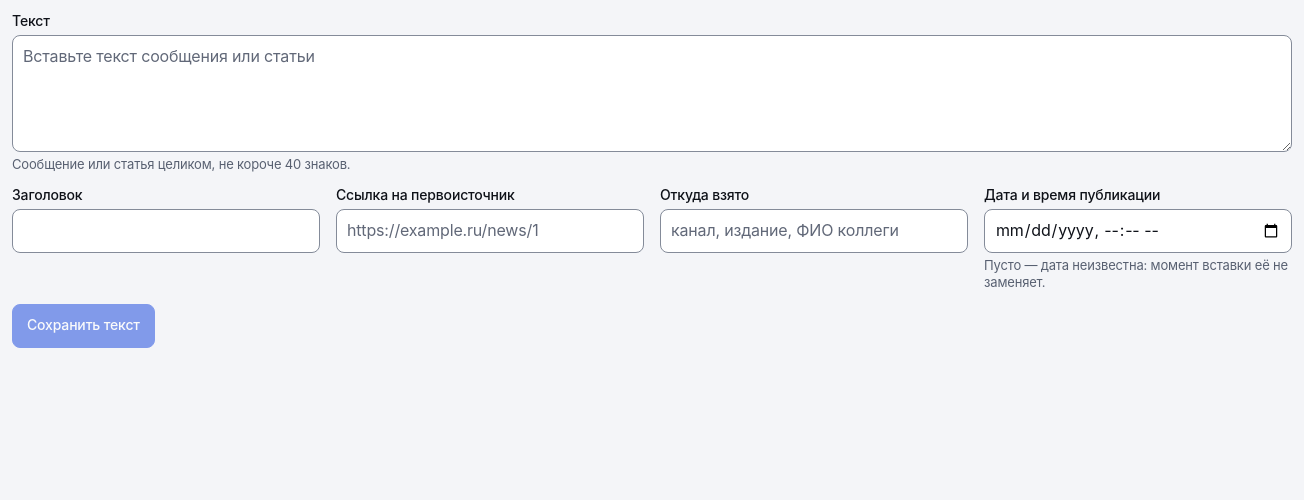
Test case: Ручная вставка текста › после сохранения — ссылка на публикацию; разбор не ставится руками, портал разберёт сам
In the text box with placeholder "Вставьте текст сообщения или статьи": (652, 94) [12,35,1292,152], type "Заказчик объявил конкурс на строительство корпуса 3 жилого комплекса «Пример»."
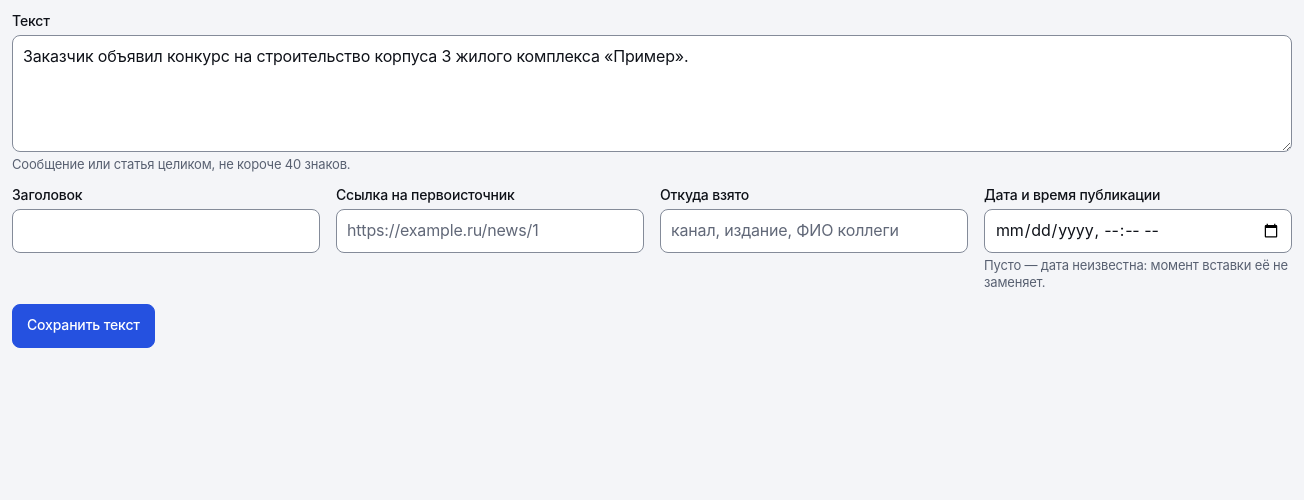
Click the button "Сохранить текст": (83, 326) [12,304,155,348]
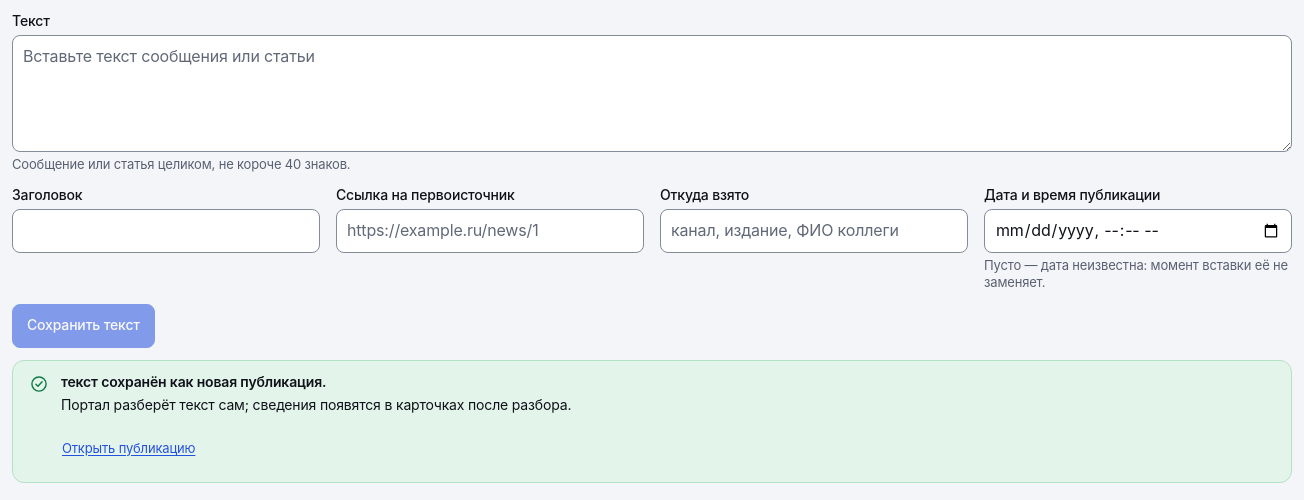
Result: the text "Портал разберёт текст сам" is shown at [61,396,571,412]
